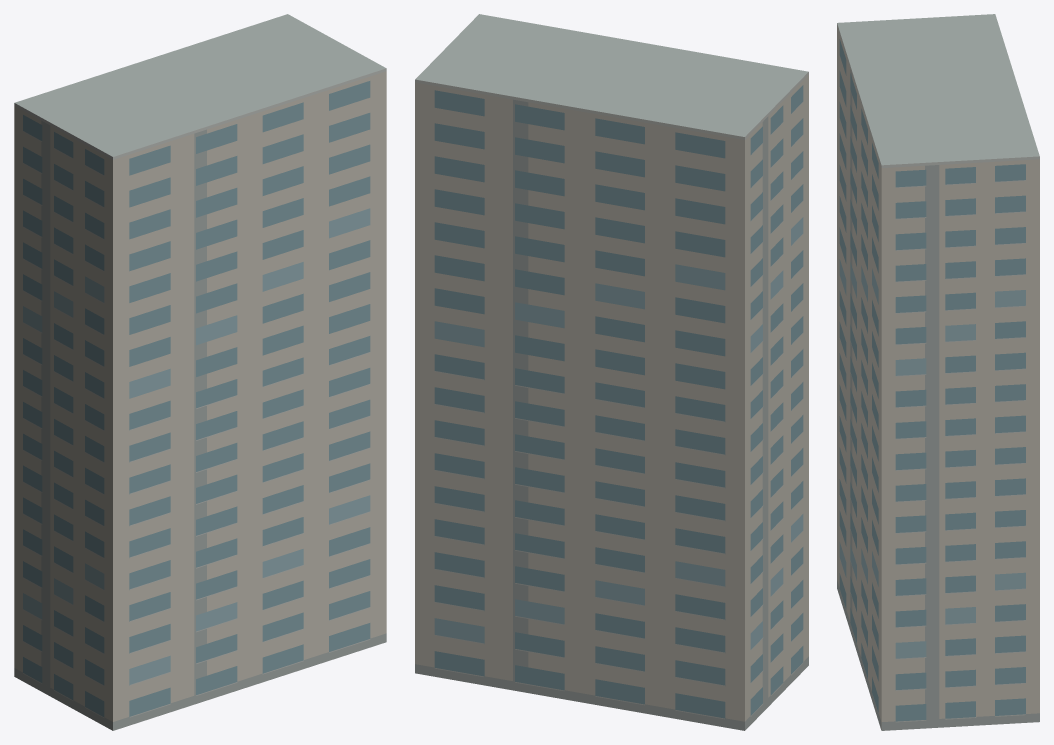
Rendered from residential-a02465b6-8381-4a87-bef4-44d8286f80c4.glb.
The picture shows the model from 3 angles, left to right: view 1: azimuth 30°, elevation 25°; view 2: azimuth 150°, elevation 25°; view 3: azimuth 270°, elevation 25°; orthographic projection. The views are drawn at different scales.
Parts seen in each view (by area): view 1: residential-a02465b6-8381-4a87-bef4-44d8286f80c4.tmp; view 2: residential-a02465b6-8381-4a87-bef4-44d8286f80c4.tmp; view 3: residential-a02465b6-8381-4a87-bef4-44d8286f80c4.tmp.
Part boxes in pixels (bbox=[...]): residential-a02465b6-8381-4a87-bef4-44d8286f80c4.tmp: bbox=[14, 14, 386, 730]; residential-a02465b6-8381-4a87-bef4-44d8286f80c4.tmp: bbox=[415, 14, 808, 730]; residential-a02465b6-8381-4a87-bef4-44d8286f80c4.tmp: bbox=[837, 14, 1039, 730].
Bounding box in the file's own units: 27.54 × 48 × 15.61.
